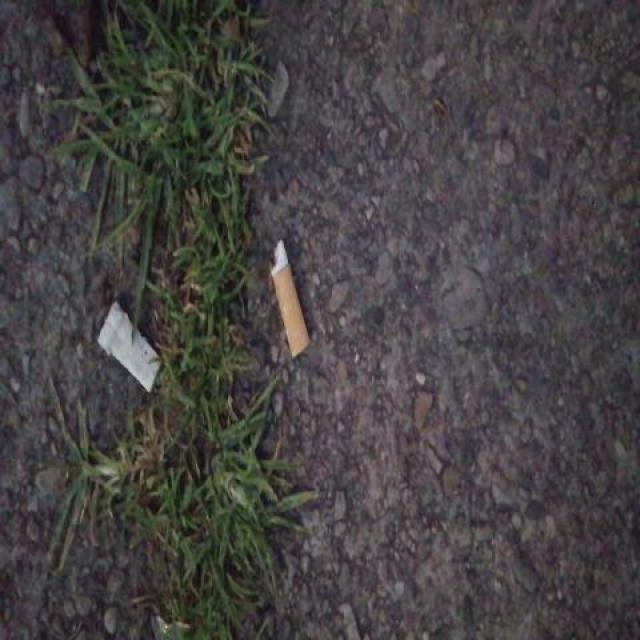non-organic waste: (92, 294, 164, 397), (265, 234, 314, 362)
